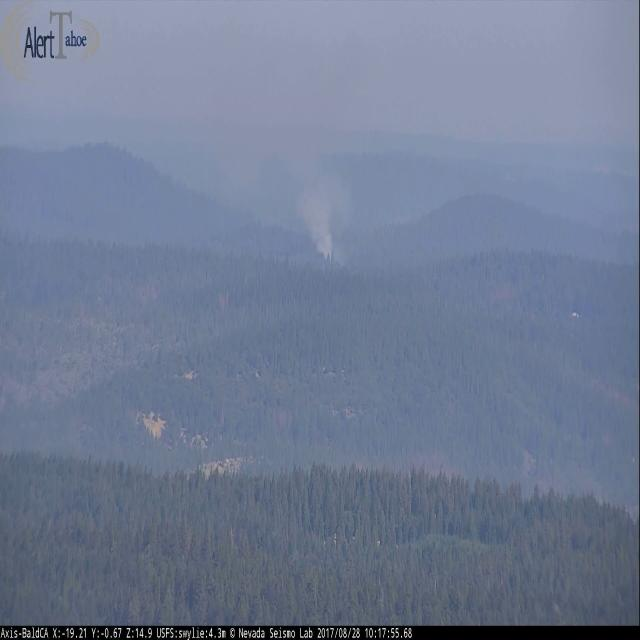smoke: (297, 168, 350, 260)
